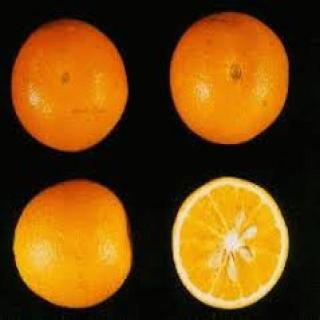orange: (159, 157, 306, 320), (0, 166, 139, 320), (157, 10, 307, 150), (6, 3, 140, 159)
